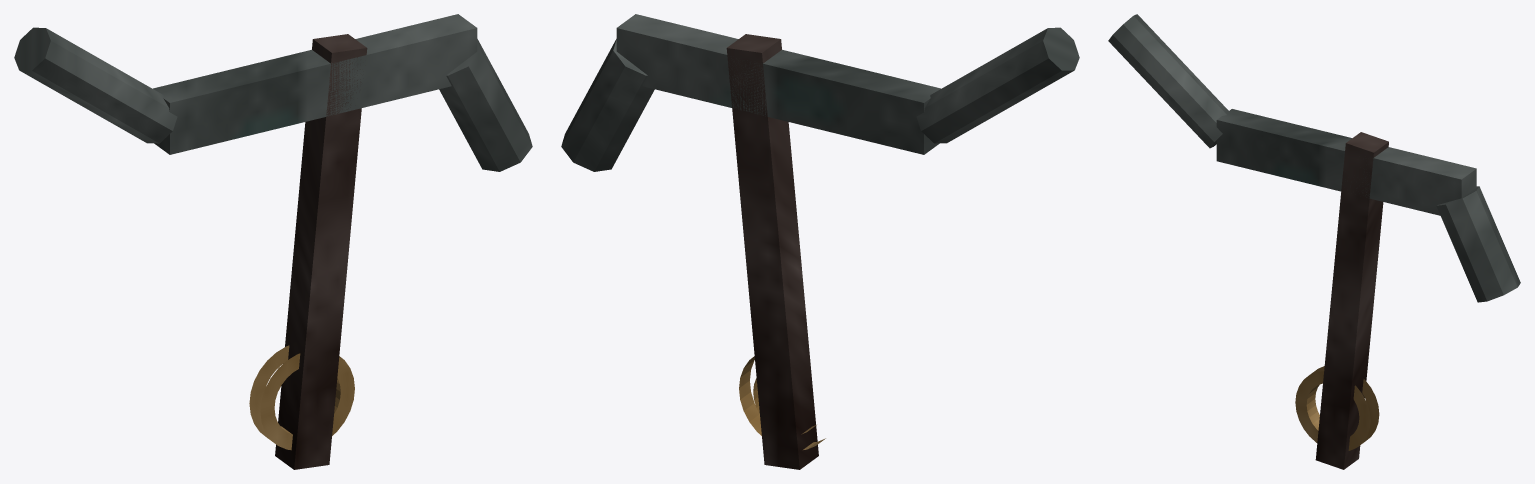
Rendered from 0882_climbing_axe_07.glb.
3 views of the same model, side by side, from view 1: azimuth 30°, elevation 25°; view 2: azimuth 150°, elevation 25°; view 3: azimuth 330°, elevation 25° (orthographic). The views are drawn at different scales.
Parts seen in each view (by area): view 1: iron, wood_dark, brass; view 2: iron, wood_dark, brass; view 3: iron, wood_dark, brass.
Part boxes in pixels (box(x1,y1,x2,y2)): iron: box(14, 14, 532, 171); wood_dark: box(275, 34, 367, 469); brass: box(249, 345, 354, 450); iron: box(561, 14, 1079, 171); wood_dark: box(726, 34, 818, 469); brass: box(739, 356, 825, 449); iron: box(1108, 14, 1520, 302); wood_dark: box(1315, 132, 1388, 469); brass: box(1295, 366, 1379, 450).
Size of the model in its own units: 1.08 by 1 by 0.11.
Materials: 3 (3 with a texture image).
